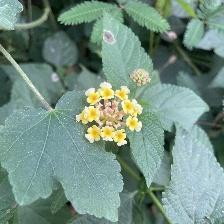common lanthana: (78, 82, 149, 150)
